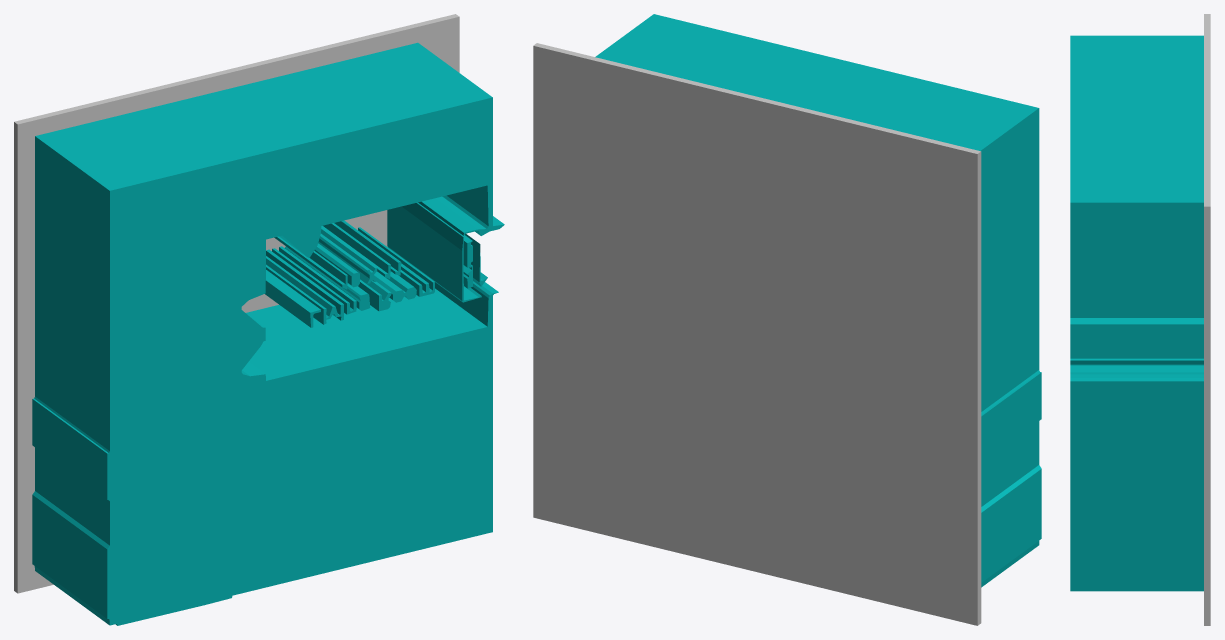
3 renders of one model, left to right at view 1: azimuth 30°, elevation 25°; view 2: azimuth 150°, elevation 25°; view 3: azimuth 270°, elevation 25°, orthographic. The views are drawn at different scales.
Parts seen in each view (by area): view 1: world; view 2: world; view 3: world.
Boxes of the visible parts, x1,y1,x2,y2 form: world: [14, 14, 504, 625]; world: [533, 14, 1041, 625]; world: [1070, 14, 1210, 625].
Size of the model in its own units: 10.23 by 10.38 by 3.15.
